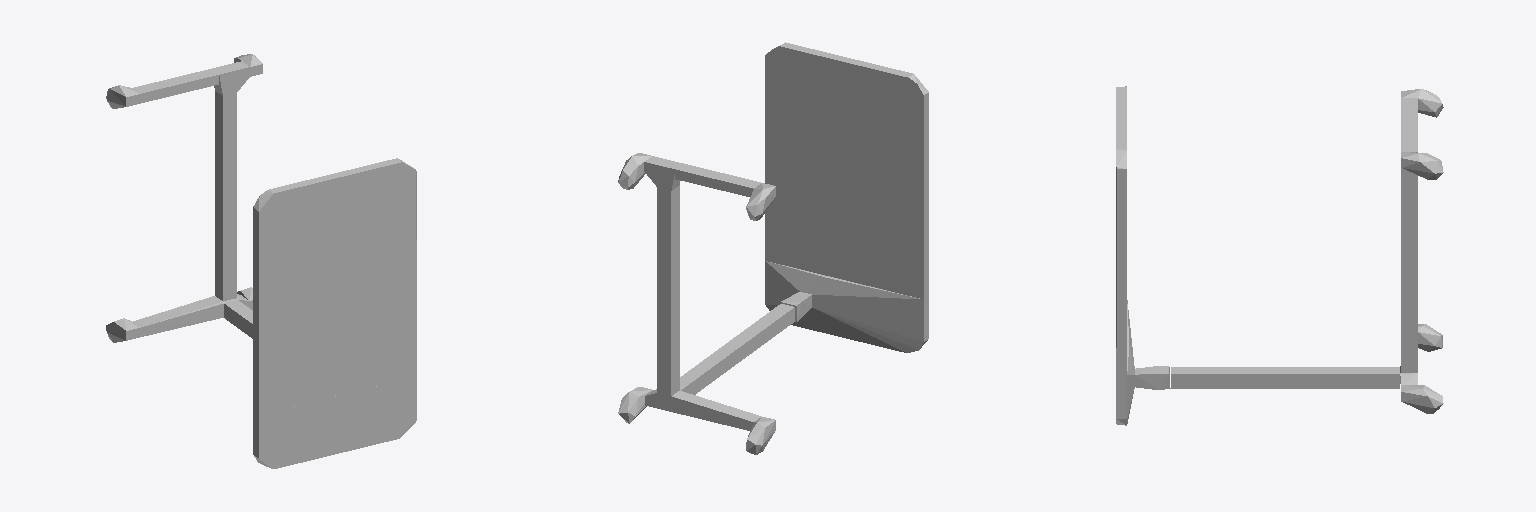
The model's file is simplified_table.obj.
3 views of the same model, side by side, from view 1: azimuth 30°, elevation 25°; view 2: azimuth 150°, elevation 25°; view 3: azimuth 270°, elevation 25° (orthographic).
Visible parts, largest first — view 1: convex_1, convex_0, convex_2, convex_5, convex_10, convex_11, convex_9, convex_4; view 2: convex_1, convex_0, convex_2, convex_5, convex_8, convex_10, convex_13, convex_11, convex_4, convex_9, convex_12, convex_7; view 3: convex_2, convex_1, convex_8, convex_6, convex_0, convex_7, convex_12, convex_3, convex_9, convex_10, convex_4.
Boxes of the visible parts, <box> form: convex_1: <box>253,158,416,414</box>; convex_0: <box>253,377,416,468</box>; convex_2: <box>215,91,236,300</box>; convex_5: <box>133,294,248,336</box>; convex_10: <box>133,69,218,103</box>; convex_11: <box>212,61,249,95</box>; convex_9: <box>106,85,139,108</box>; convex_4: <box>106,318,139,342</box>; convex_1: <box>765,42,928,298</box>; convex_0: <box>765,261,928,352</box>; convex_2: <box>657,185,679,395</box>; convex_5: <box>645,389,761,430</box>; convex_8: <box>680,304,794,391</box>; convex_10: <box>675,163,760,196</box>; convex_13: <box>686,313,794,394</box>; convex_11: <box>644,156,682,190</box>; convex_4: <box>746,417,775,454</box>; convex_9: <box>746,183,775,220</box>; convex_12: <box>618,153,651,189</box>; convex_7: <box>618,387,652,423</box>; convex_2: <box>1401,168,1417,372</box>; convex_1: <box>1116,86,1126,374</box>; convex_8: <box>1171,367,1399,379</box>; convex_6: <box>1171,380,1399,388</box>; convex_0: <box>1116,300,1134,425</box>; convex_7: <box>1401,385,1443,413</box>; convex_12: <box>1401,152,1443,179</box>; convex_3: <box>1135,366,1170,389</box>; convex_9: <box>1401,89,1443,117</box>; convex_10: <box>1401,98,1417,136</box>; convex_4: <box>1418,324,1442,351</box>.
Bounding box in the file's own units: 0.4592 × 0.7635 × 0.8206.